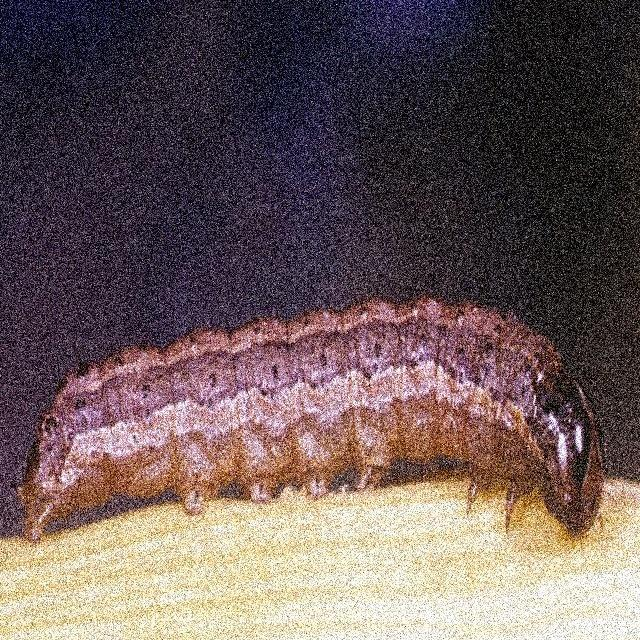worm: (14, 295, 606, 545)
